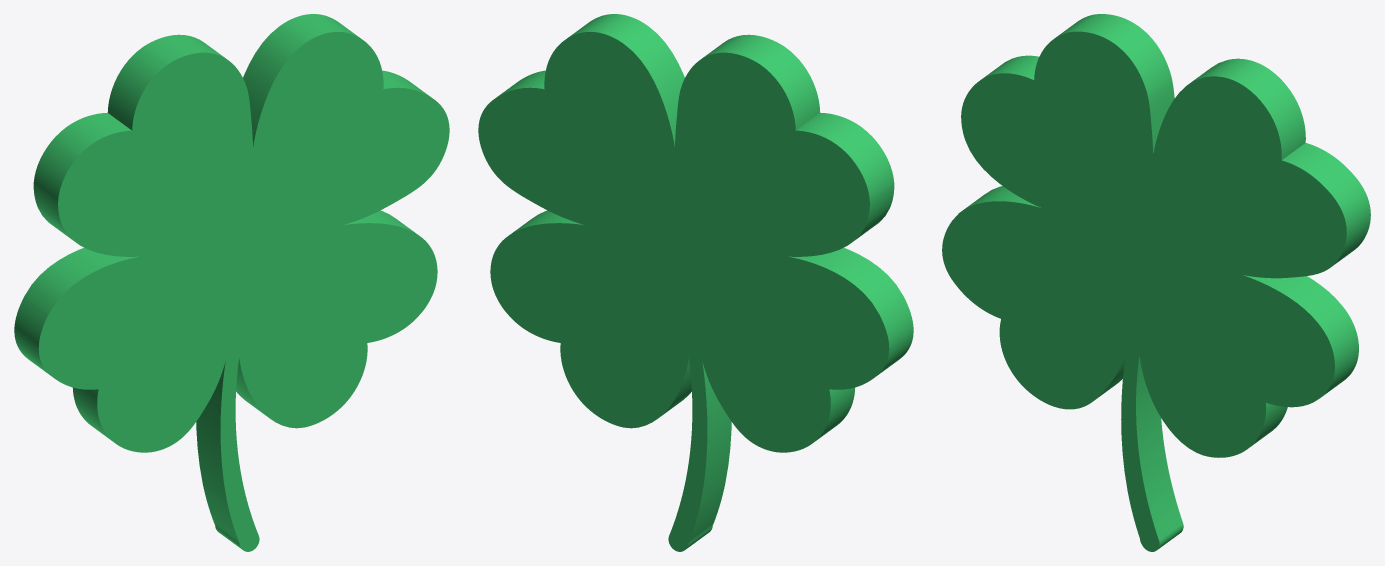
Rendered from clover.glb.
The picture shows the model from 3 angles, left to right: view 1: azimuth 30°, elevation 25°; view 2: azimuth 150°, elevation 25°; view 3: azimuth 330°, elevation 25°; orthographic projection.
Visible parts, largest first — view 1: Curve; view 2: Curve; view 3: Curve.
Part boxes in pixels (x1,y1,x2,y2): Curve: [14, 14, 449, 551]; Curve: [478, 14, 913, 551]; Curve: [942, 14, 1370, 551].
Bounding box in the file's own units: 35.32 × 42.04 × 3.64.
